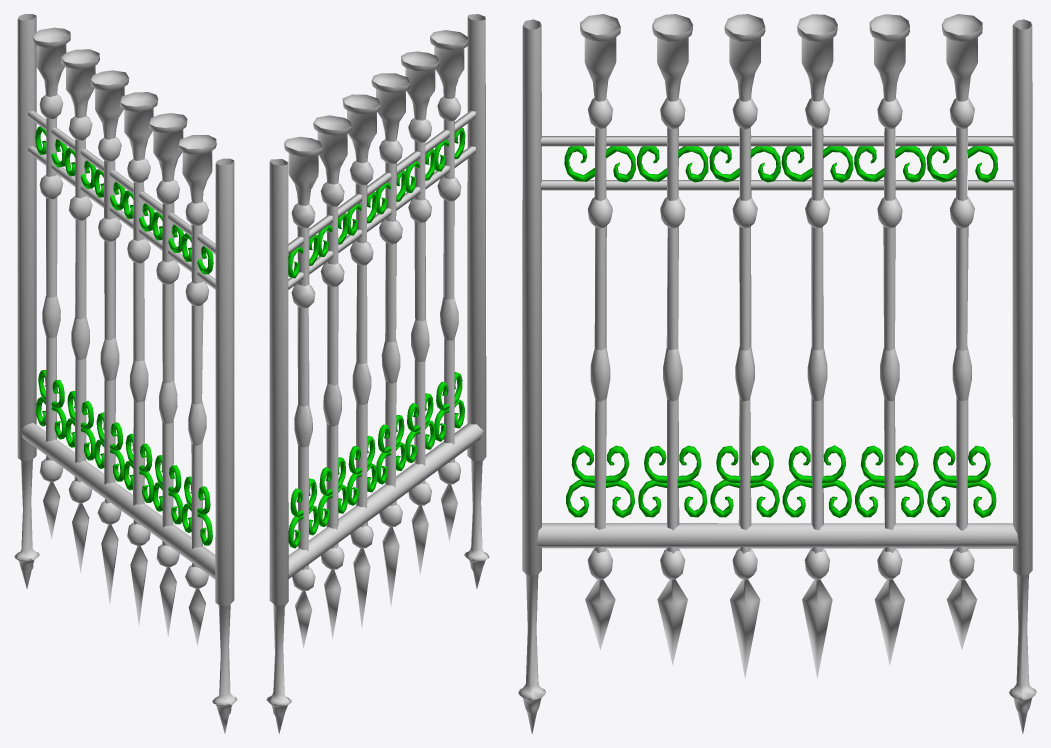
The model's file is main-gate.fbx.
The picture shows the model from 3 angles, left to right: view 1: azimuth 30°, elevation 25°; view 2: azimuth 150°, elevation 25°; view 3: azimuth 270°, elevation 25°; orthographic projection. The views are drawn at different scales.
Visible parts, largest first — view 1: Iron Fence; view 2: Iron Fence; view 3: Iron Fence.
Part boxes in pixels (left/top/right/bottom): Iron Fence: left=14, top=14, right=237, bottom=733; Iron Fence: left=266, top=14, right=489, bottom=733; Iron Fence: left=518, top=14, right=1036, bottom=733.
Size of the model in its own units: 25.1 by 390 by 259.
